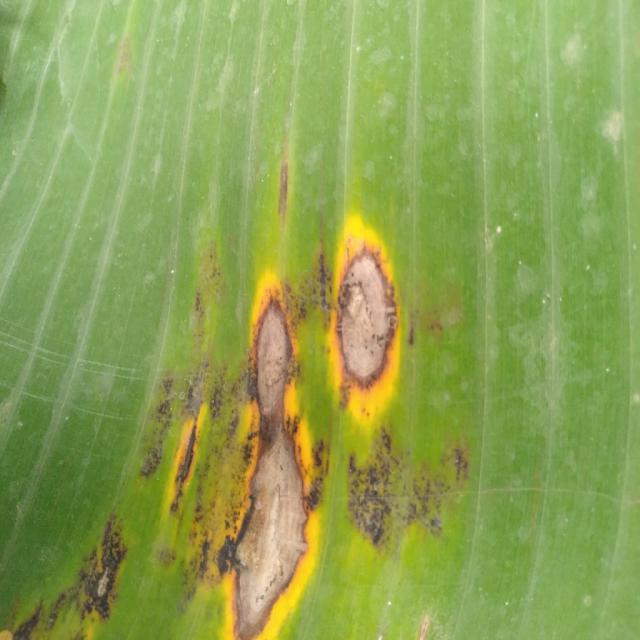Early_rust: (7, 165, 489, 640)
